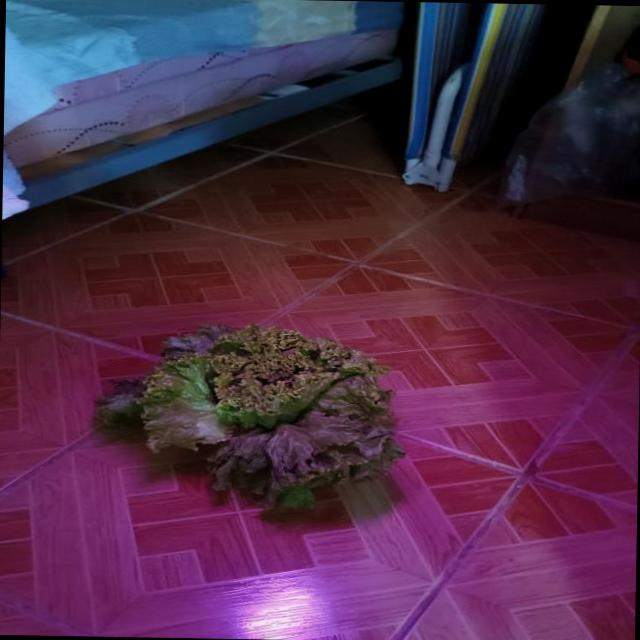Lettuce-Ready-to-Harvest: (102, 325, 400, 507)
